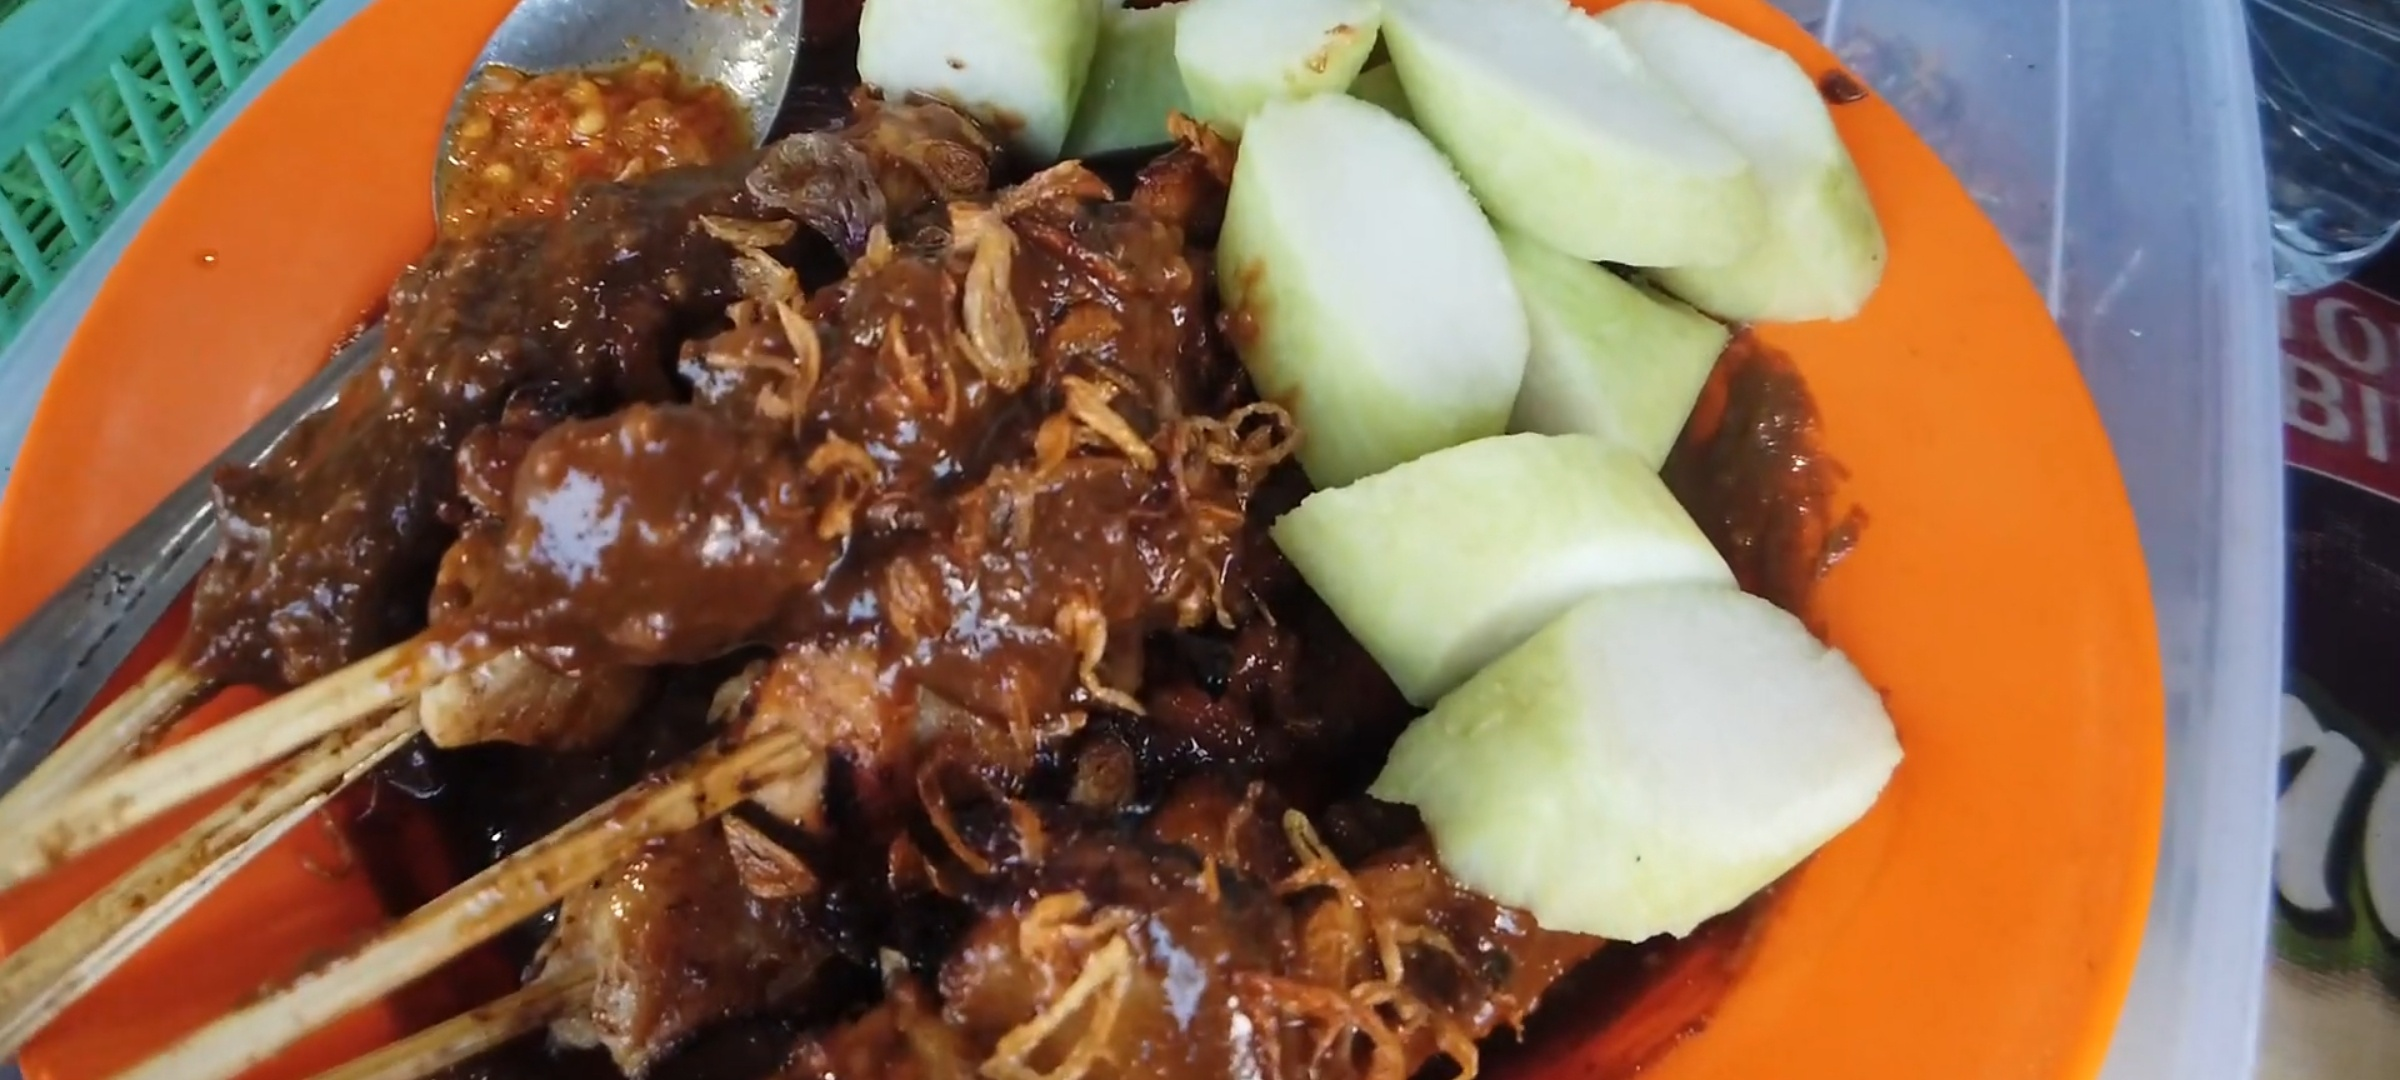sate_madura: (66, 130, 1575, 1080)
